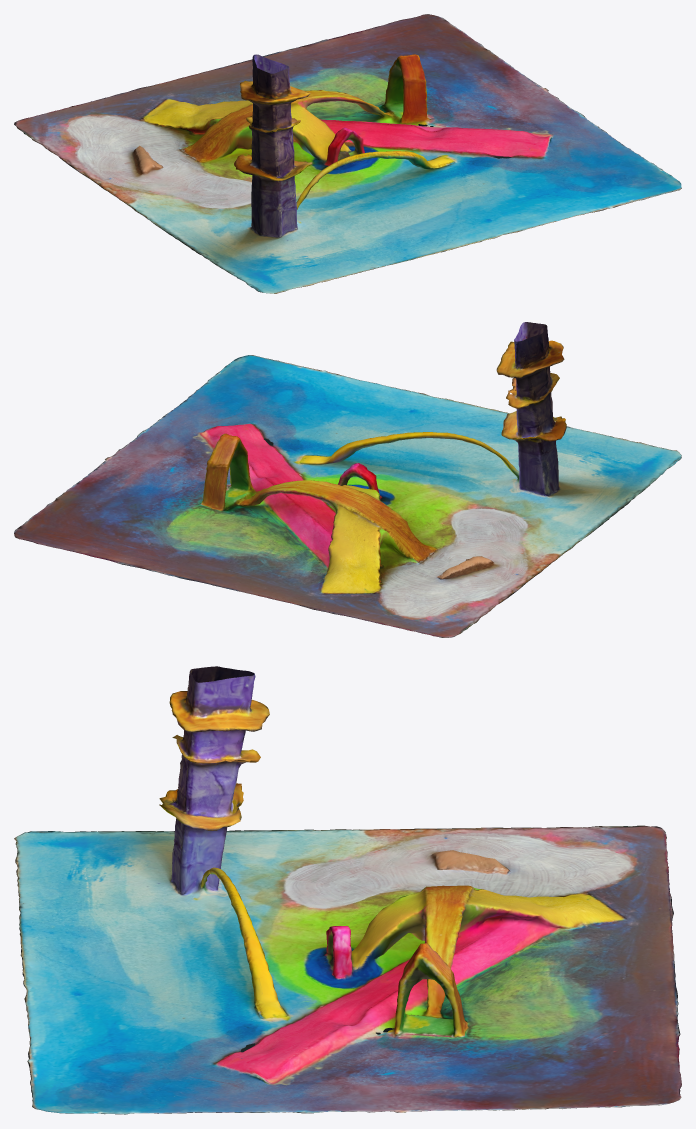
Rendered from farblandschaft.fbx.
3 renders of one model, top to bottom at view 1: azimuth 30°, elevation 25°; view 2: azimuth 150°, elevation 25°; view 3: azimuth 270°, elevation 25°, orthographic. The views are drawn at different scales.
Visible parts, largest first — view 1: 3DModel; view 2: 3DModel; view 3: 3DModel.
Part boxes in pixels (x1,y1,x2,y2): 3DModel: (14, 14, 681, 293); 3DModel: (14, 322, 681, 637); 3DModel: (14, 666, 681, 1114).
Size of the model in its own units: 64790 by 22535 by 63466.
Materials: 1 (1 with a texture image).
